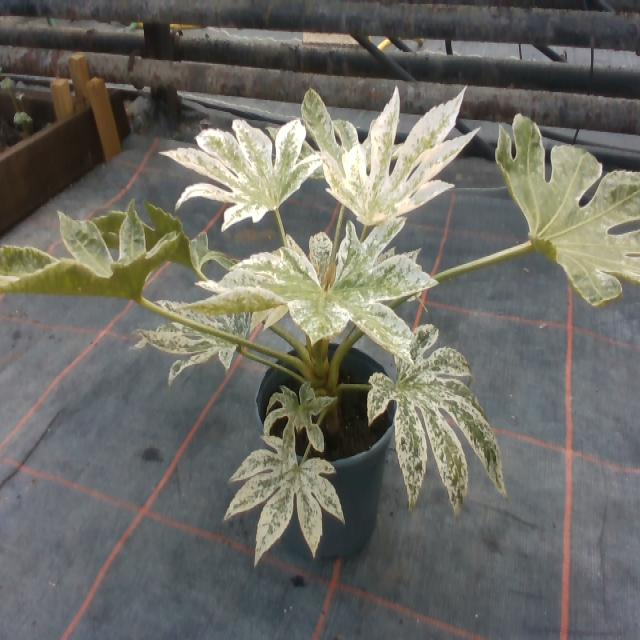Fatsia-japonica: (486, 112, 640, 352), (202, 220, 444, 363), (364, 321, 517, 516), (320, 92, 473, 231), (0, 210, 156, 334), (168, 117, 318, 236), (216, 438, 350, 567), (270, 83, 401, 189), (90, 189, 222, 278), (149, 282, 254, 376), (255, 362, 332, 451)
